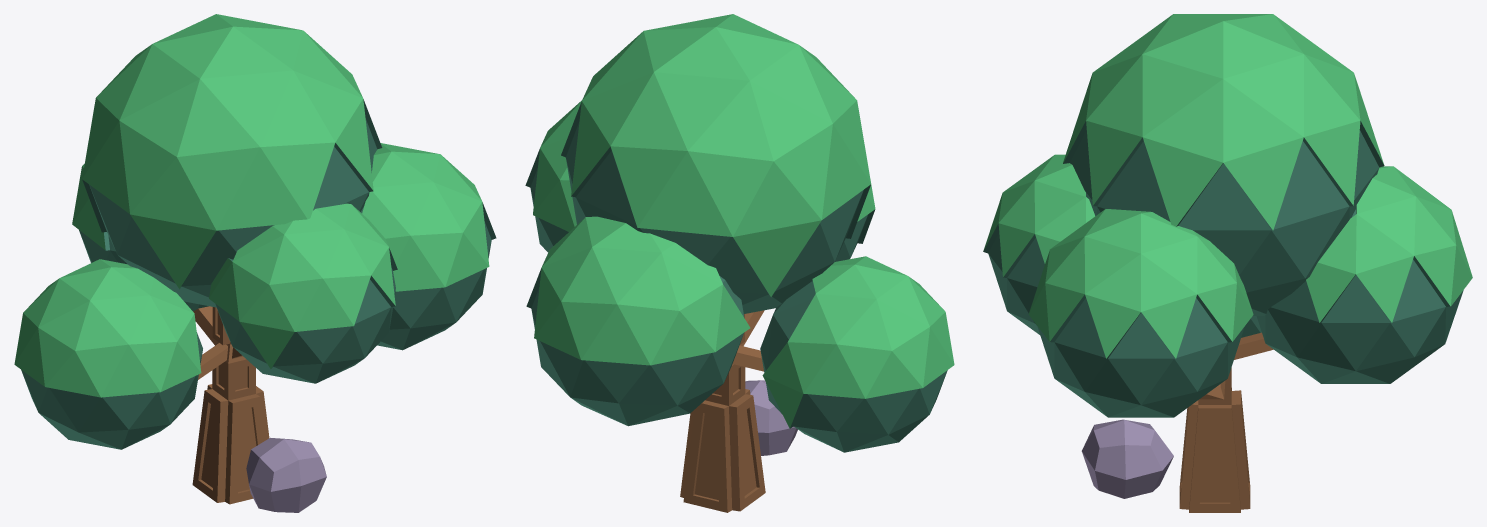
The model's file is tree.glb.
The picture shows the model from 3 angles, left to right: view 1: azimuth 30°, elevation 25°; view 2: azimuth 150°, elevation 25°; view 3: azimuth 270°, elevation 25°; orthographic projection. The views are drawn at different scales.
Visible parts, largest first — view 1: Tree, Stone; view 2: Tree, Stone; view 3: Tree, Stone.
Part boxes in pixels (bbox=[...]): Tree: bbox=[14, 14, 496, 504]; Stone: bbox=[246, 437, 326, 512]; Tree: bbox=[525, 14, 954, 512]; Stone: bbox=[745, 380, 797, 455]; Tree: bbox=[983, 14, 1472, 512]; Stone: bbox=[1081, 419, 1173, 498].
Size of the model in its own units: 19.49 by 20.39 by 18.9.
2 materials, 2 textured.
